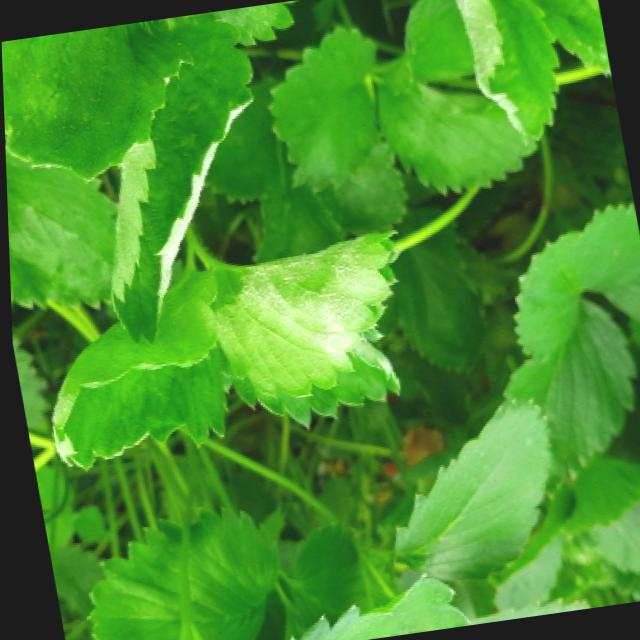Powdery Mildew Leaf: (106, 12, 255, 350), (207, 229, 400, 431), (47, 271, 227, 473), (1, 20, 193, 180), (456, 0, 564, 142), (534, 0, 611, 78), (209, 0, 298, 49)
